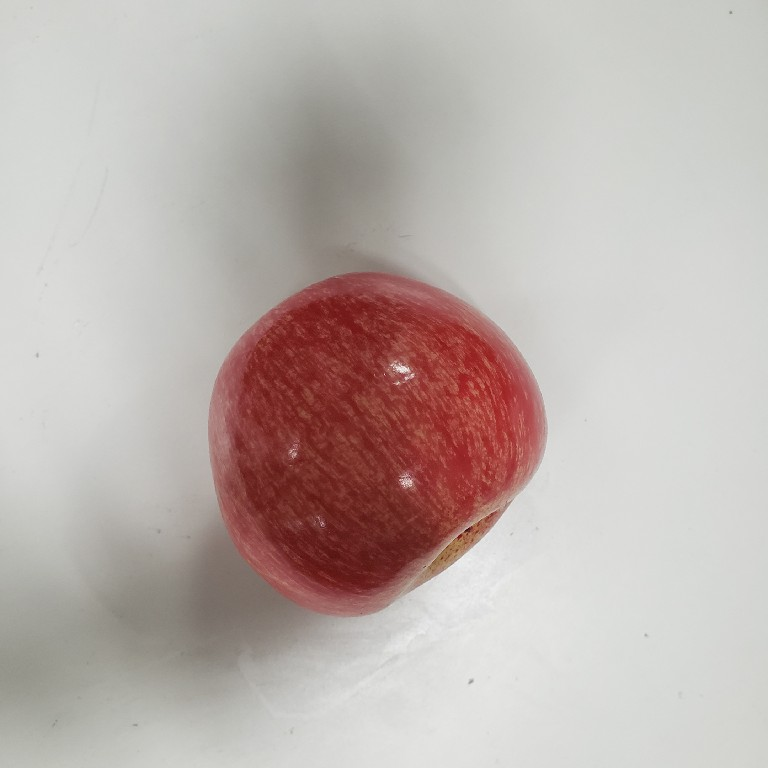fruit_apple: (203, 259, 555, 627)
